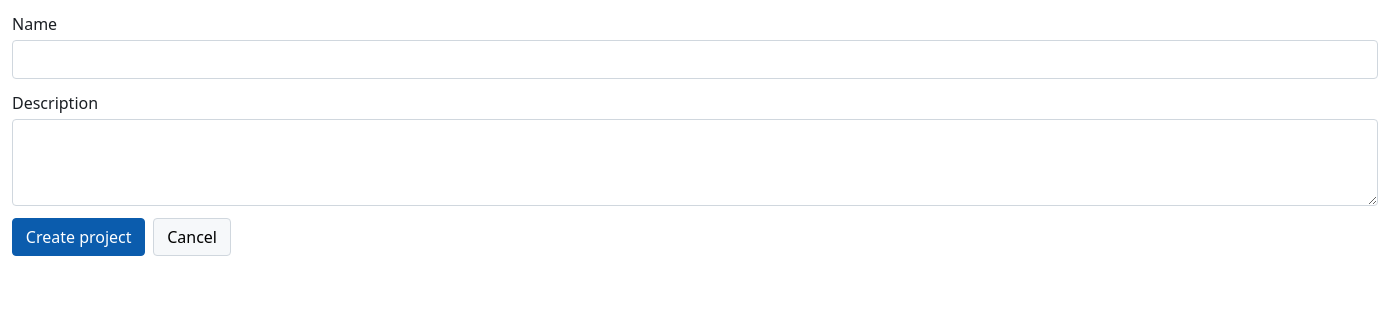
Test: a client-side rejection › clears the alert once the form is fixed and sent
Click the button "Create project" at (79, 237), box [12,218,145,256]
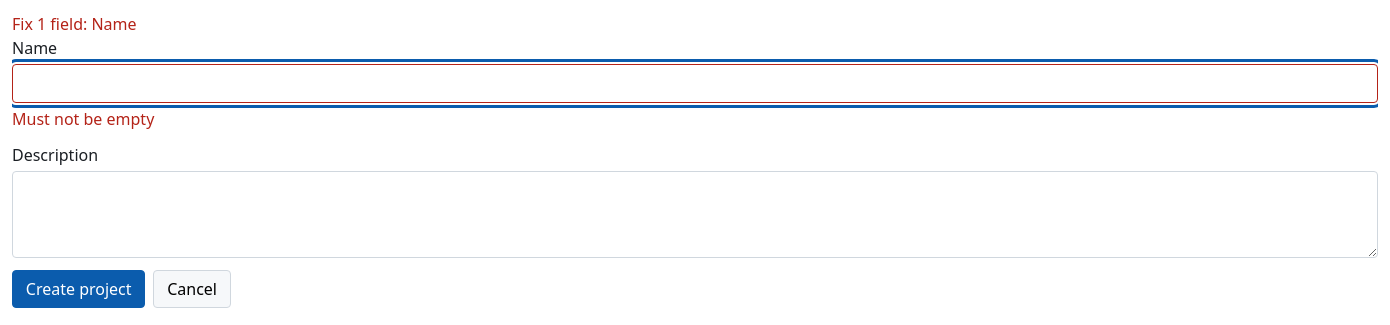
Check: the message reads "Fix 1 field: Name", box [12,13,137,35]
Type "Payments" into the field labelled "Name" at (695, 83), box [12,64,1378,103]
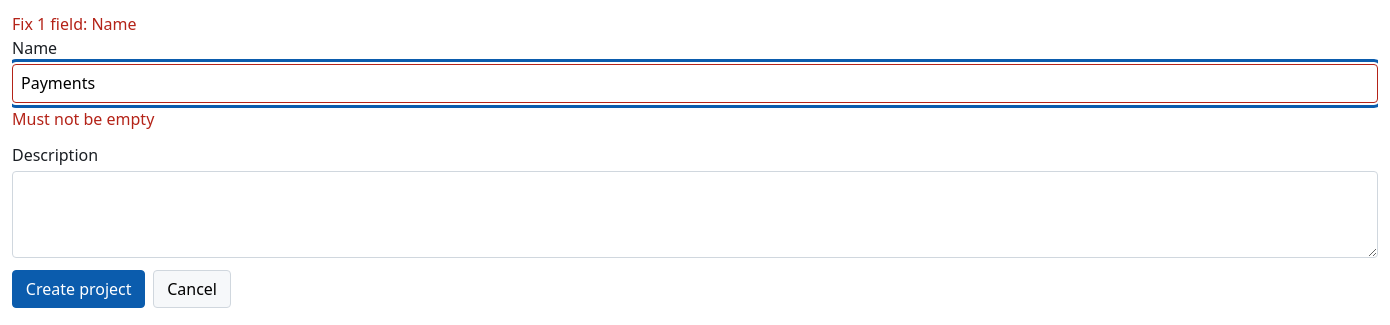
Click the button "Create project" at (79, 289), box [12,270,145,308]
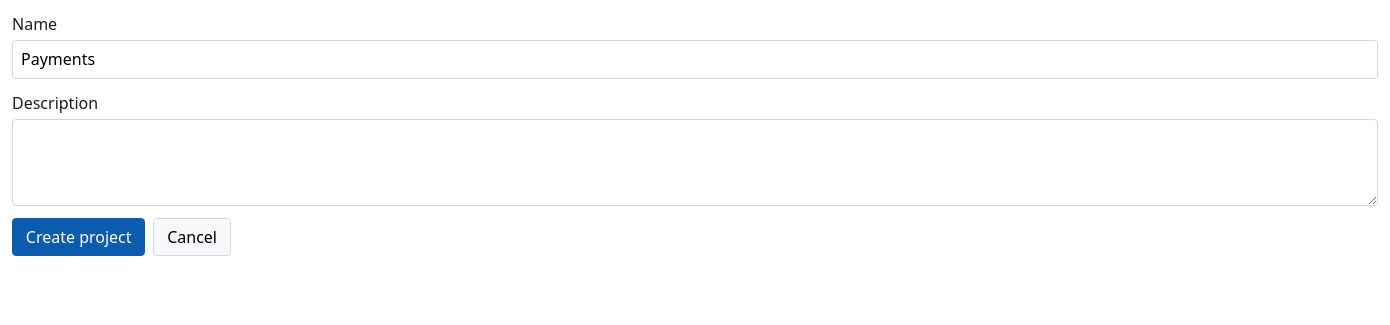
Check: the message "Fix 1 field: Name" is gone
